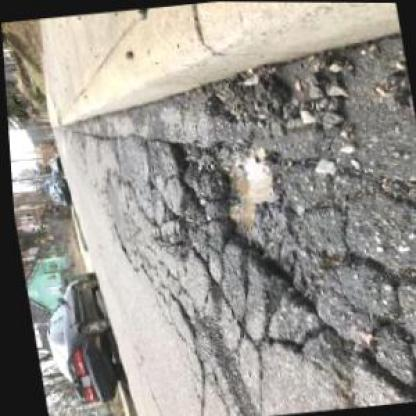pothole: (161, 125, 323, 323)
